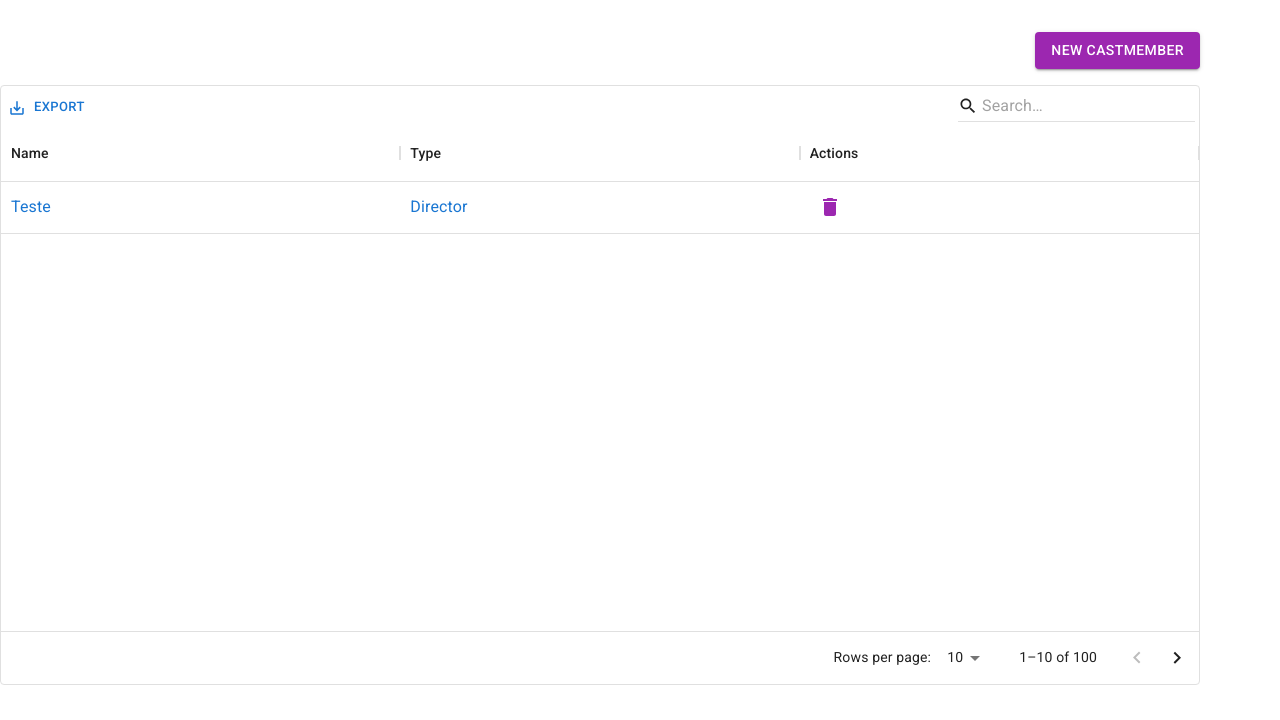
Scenario: ListCastMembers › should handle On PageChange
The image size is (1280, 720).
Expected: the text "Teste" is shown, [11,195,51,219]
Click the button with test id "KeyboardArrowRightIcon": [1177, 658] box [1157,638,1197,678]
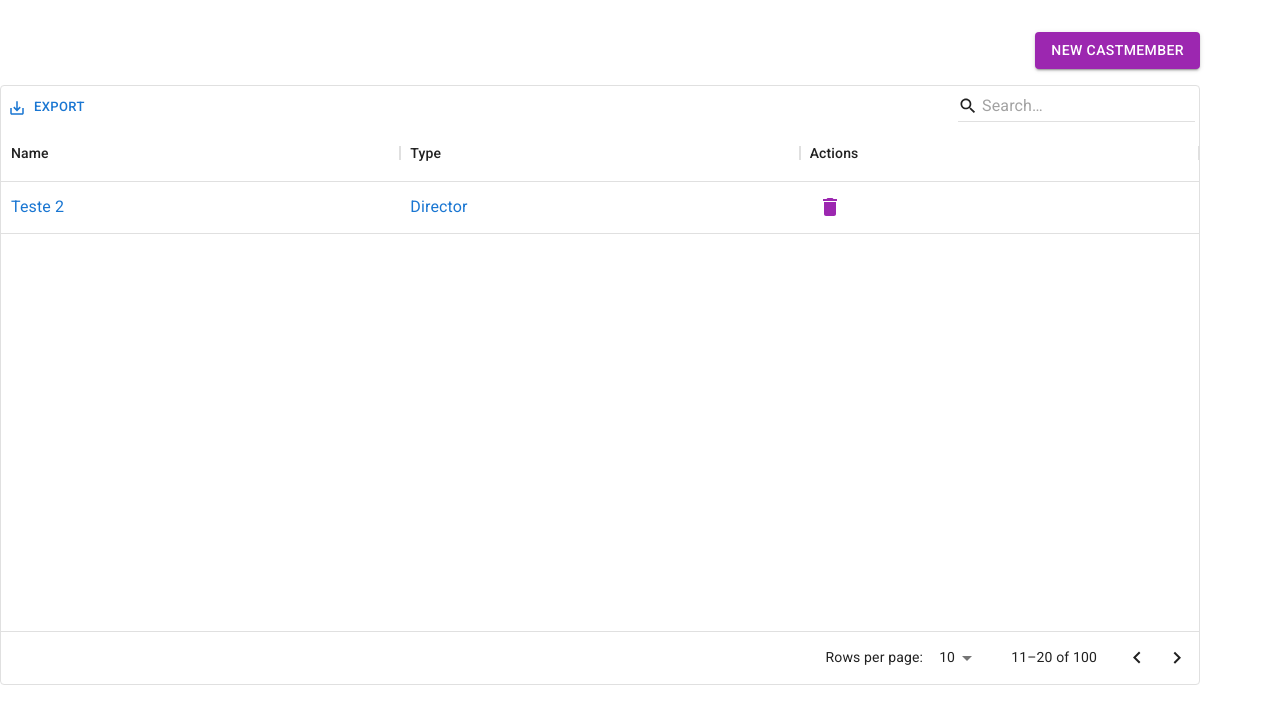
Now the text "Teste 2" is shown, box [11,195,64,219]
